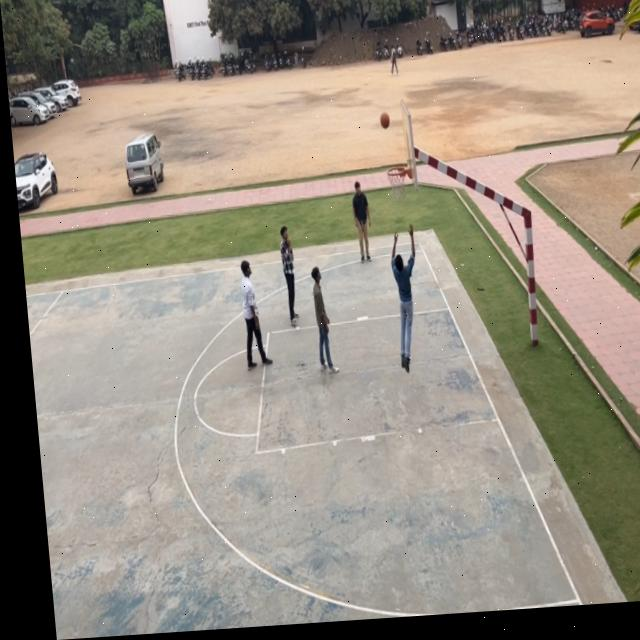basketball: (378, 108, 393, 135)
hoop: (386, 164, 408, 202)
